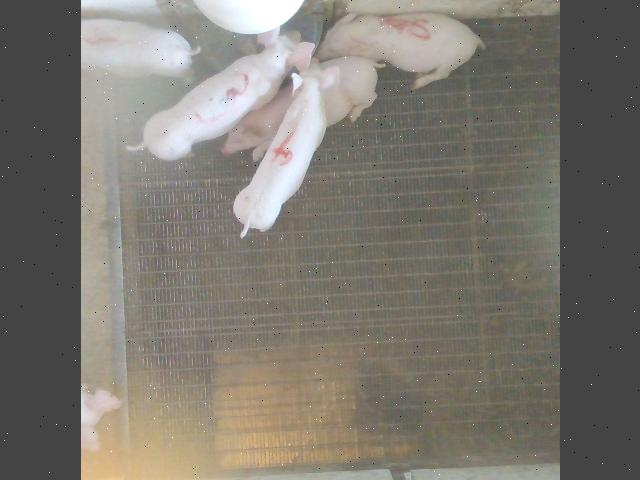pig-1: (82, 20, 199, 78)
pig-3: (129, 28, 314, 160)
pig-4: (233, 59, 338, 238)
pig-5: (316, 14, 482, 89)
